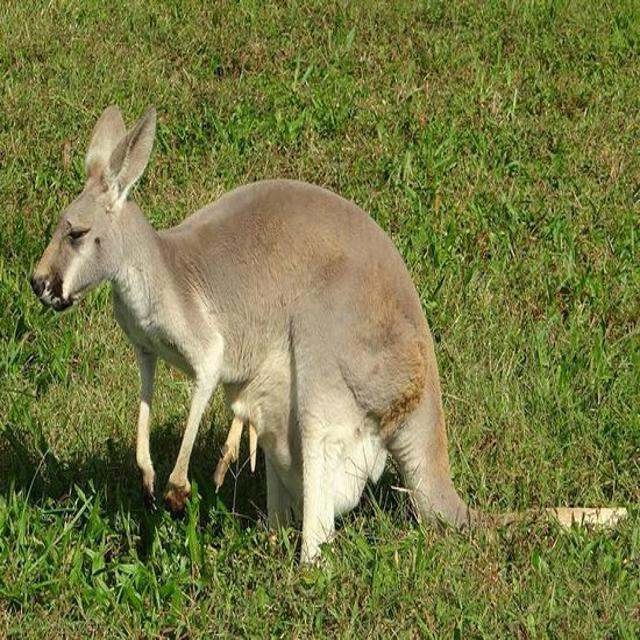kangaroo: (22, 96, 445, 538)
